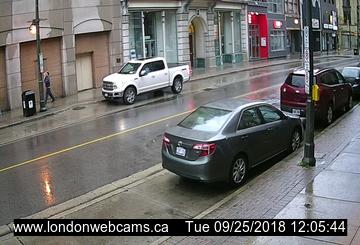Car: (161, 98, 308, 188), (277, 62, 356, 125), (99, 55, 195, 105)
person: (41, 68, 58, 106)
